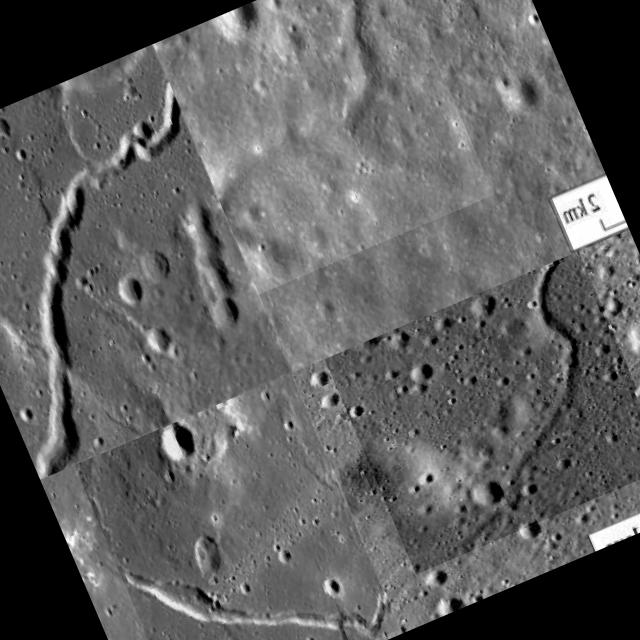rille: (0, 44, 289, 477), (324, 250, 640, 573), (151, 0, 493, 294), (74, 372, 399, 640)
